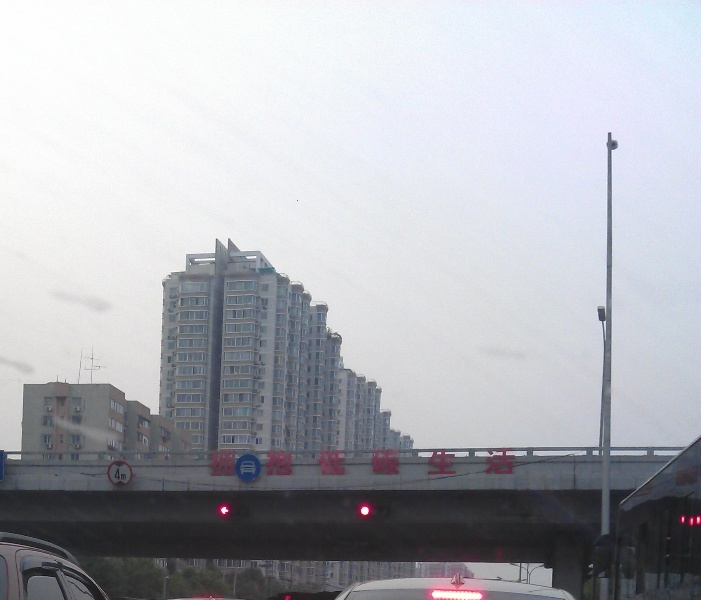text: (209, 449, 224, 478), (225, 449, 240, 478), (241, 449, 256, 478), (257, 449, 272, 478), (273, 449, 288, 478), (289, 449, 304, 478), (305, 449, 320, 478), (321, 449, 336, 478), (337, 449, 352, 478), (353, 449, 368, 478), (369, 449, 384, 478), (385, 449, 400, 478), (401, 449, 416, 478), (417, 449, 432, 478), (433, 449, 448, 478), (449, 449, 464, 478), (465, 449, 480, 478), (481, 449, 496, 478), (497, 449, 512, 478), (114, 468, 128, 481), (513, 449, 516, 478)
